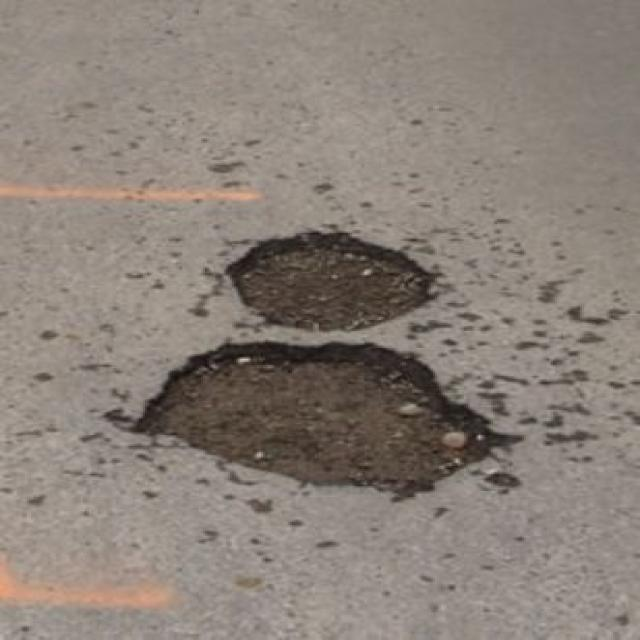pothole: (120, 335, 518, 505), (213, 224, 439, 332)
